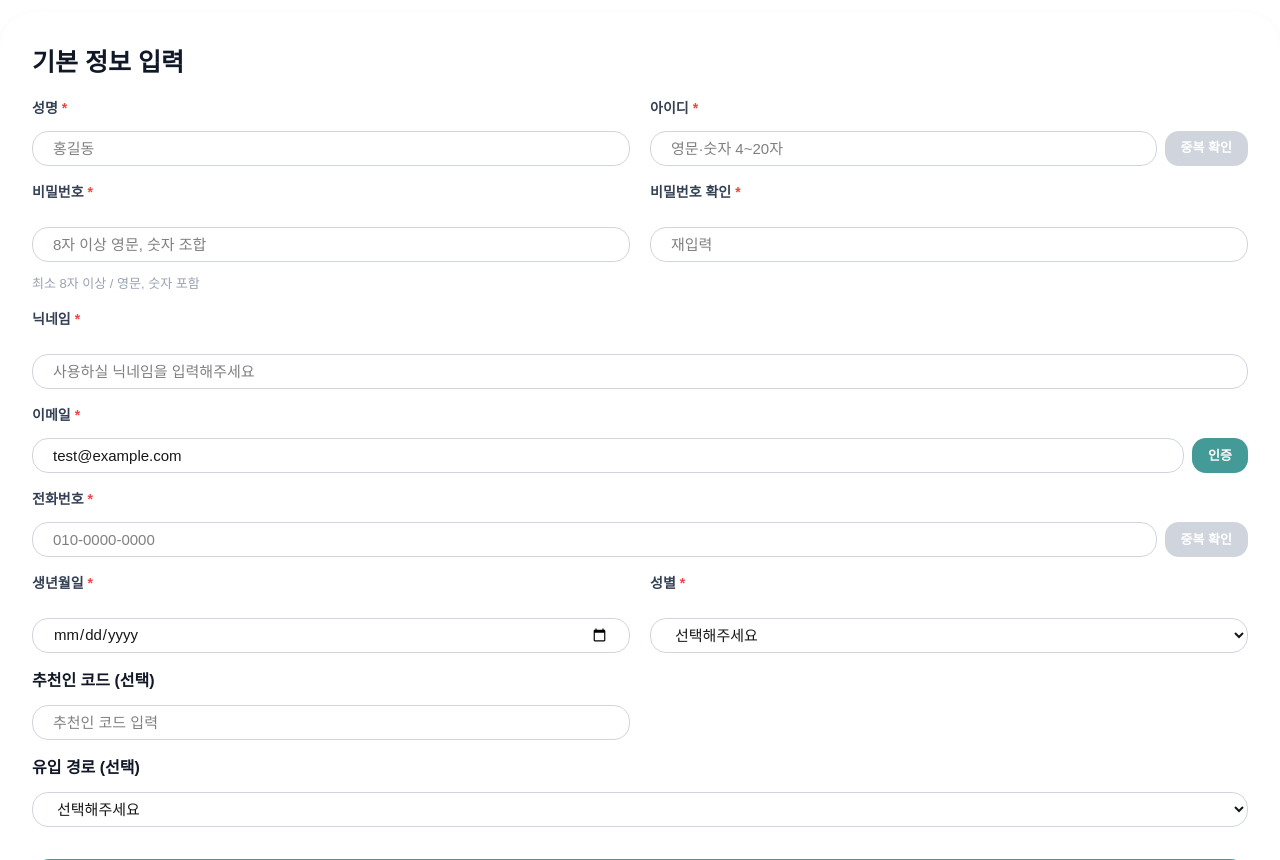
Test: RegisterInfoForm 컴포넌트 테스트 › 이메일 인증번호 발송에 성공하면 인증번호 입력창이 보인다
Step 1. Click the button with aria-label "인증: 이메일 인증번호 발송" → (1220, 456), box x1=1192 y1=438 x2=1248 y2=473
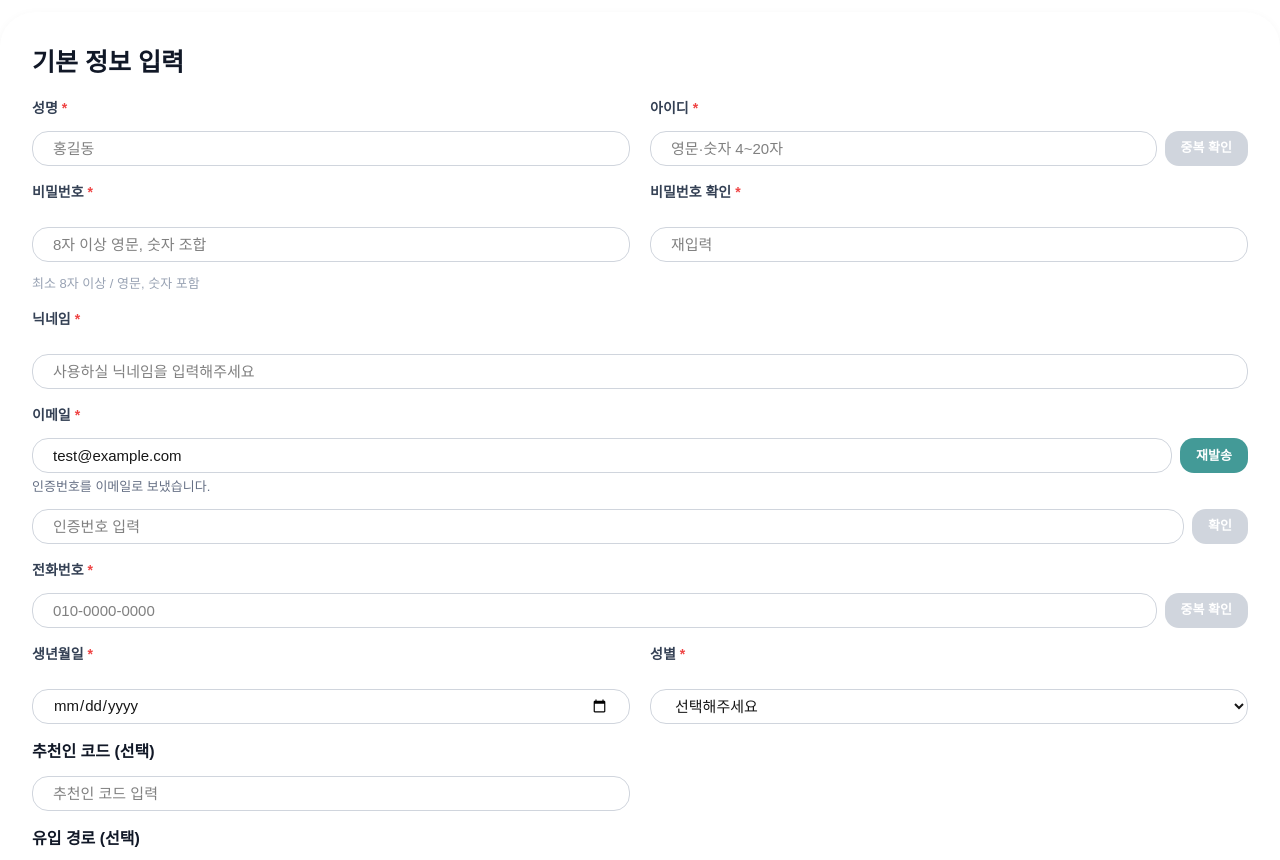
Now the text "인증번호를 이메일로 보냈습니다." is shown, box x1=32 y1=479 x2=210 y2=494
Now the field with placeholder "인증번호 입력" is shown, box x1=32 y1=508 x2=1184 y2=544
